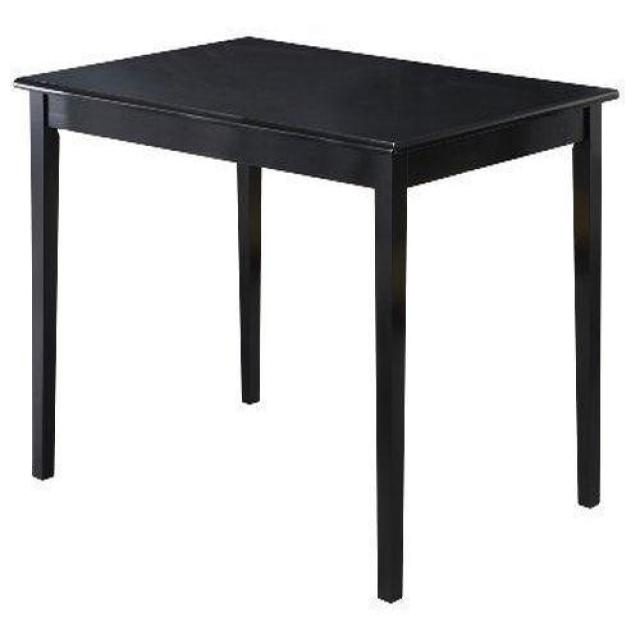table: (13, 37, 620, 604)
